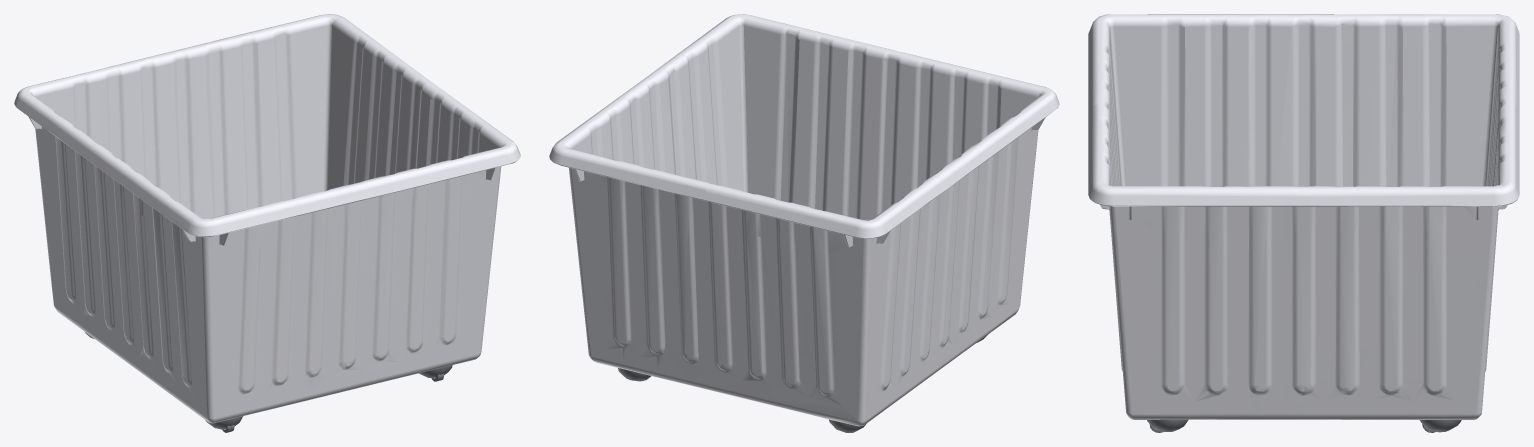
3 renders of one model, left to right at view 1: azimuth 30°, elevation 25°; view 2: azimuth 150°, elevation 25°; view 3: azimuth 270°, elevation 25°, orthographic. The views are drawn at different scales.
Parts seen in each view (by area): view 1: ASY_ART_70104462_S01_NV01; view 2: ASY_ART_70104462_S01_NV01; view 3: ASY_ART_70104462_S01_NV01.
Boxes of the visible parts, <box> form: ASY_ART_70104462_S01_NV01: <box>14,14,520,432</box>; ASY_ART_70104462_S01_NV01: <box>549,14,1059,432</box>; ASY_ART_70104462_S01_NV01: <box>1088,14,1519,432</box>.
Bounding box in the file's own units: 0.3954 × 0.2757 × 0.3954.
Materials: 1 (1 with a texture image).
